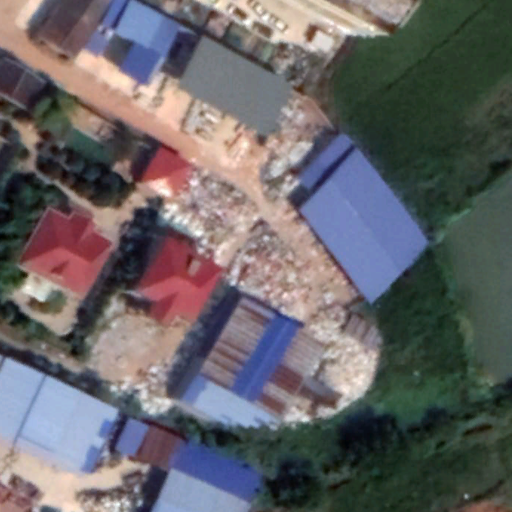msw: (74, 173, 374, 447)
